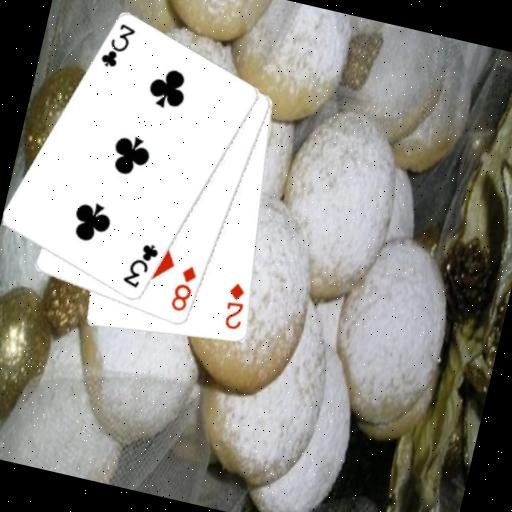2D: (218, 279, 252, 334)
3C: (119, 237, 163, 294), (96, 18, 139, 74)
8D: (166, 260, 200, 316)
